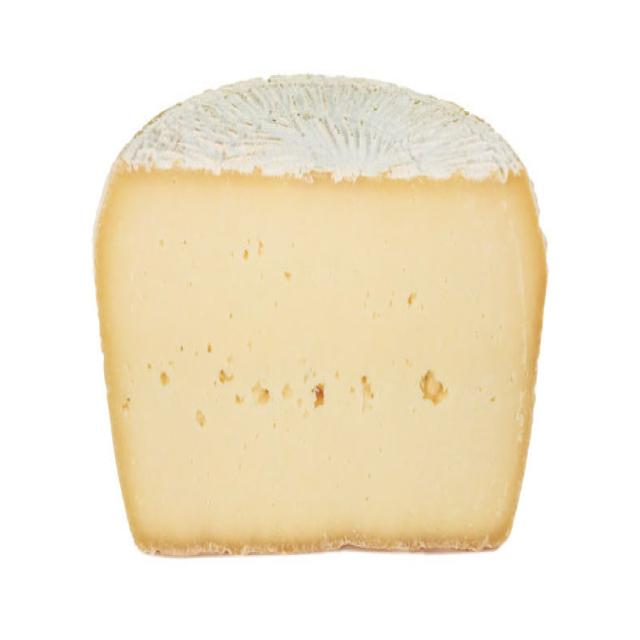Cheese: (85, 62, 557, 627), (107, 109, 536, 568)
